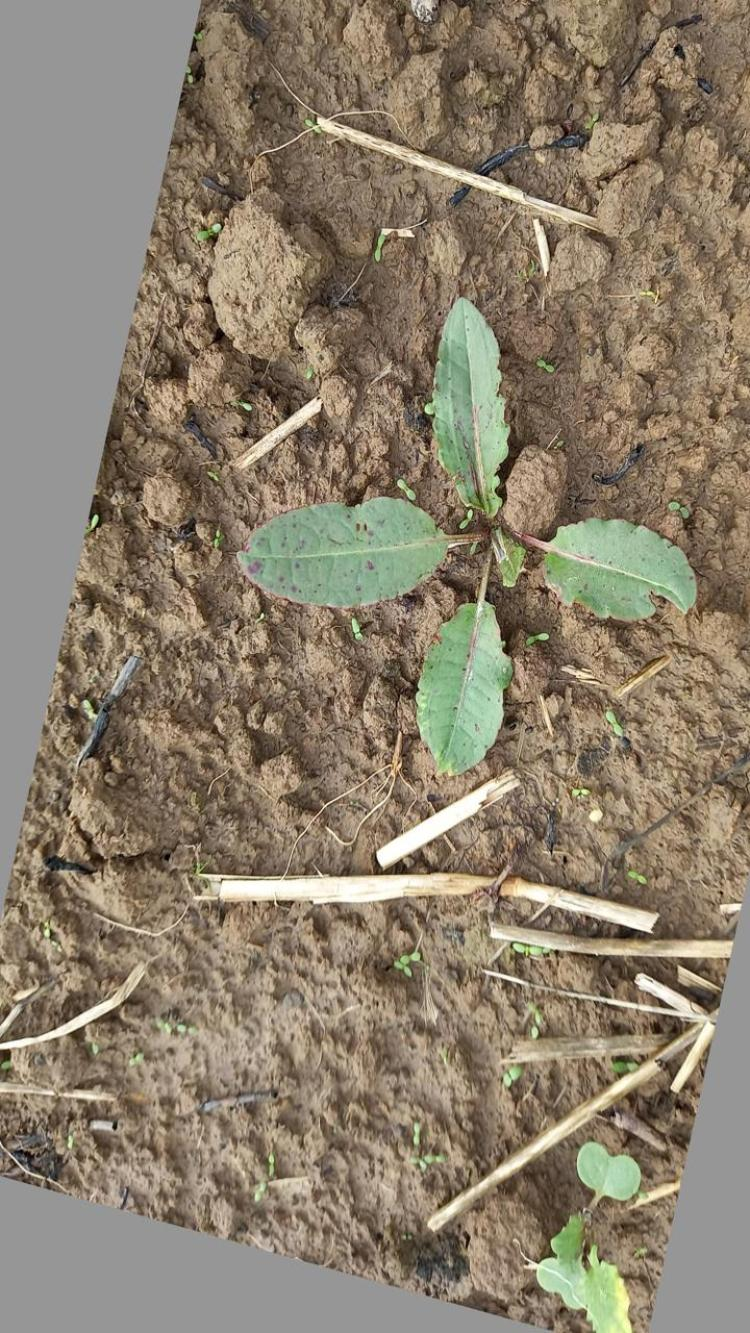zhavel: (236, 300, 702, 777)
